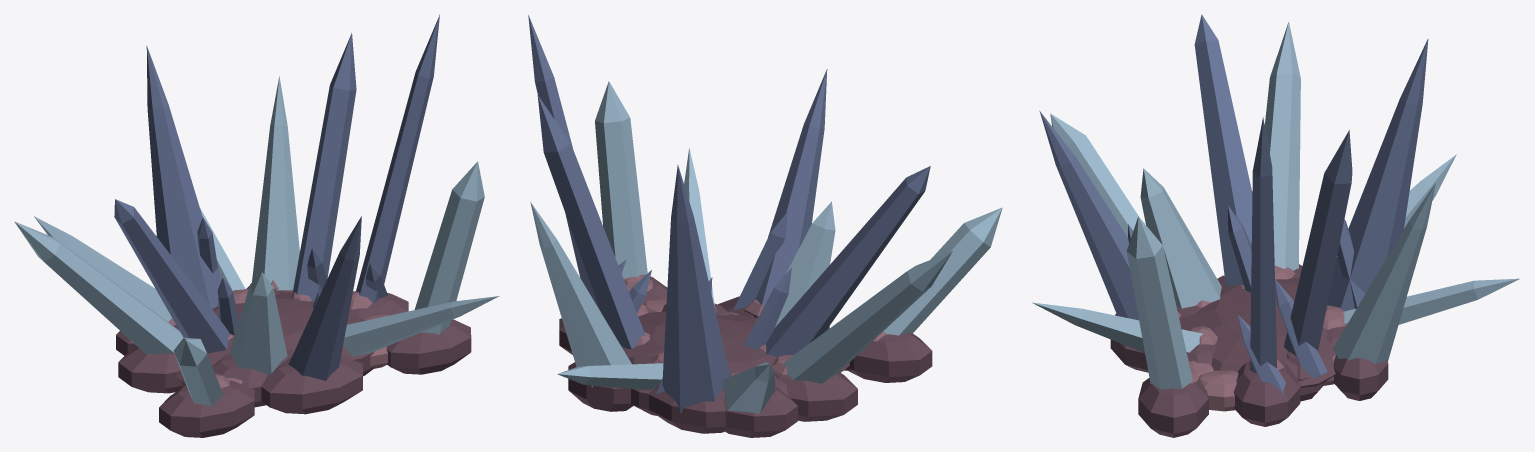
Rendered from colony_mature.glb.
3 views of the same model, side by side, from view 1: azimuth 30°, elevation 25°; view 2: azimuth 150°, elevation 25°; view 3: azimuth 270°, elevation 25° (orthographic). The views are drawn at different scales.
Parts seen in each view (by area): view 1: colony_mature; view 2: colony_mature; view 3: colony_mature.
Boxes of the visible parts, bbox=[...] form: colony_mature: bbox=[14, 14, 499, 437]; colony_mature: bbox=[528, 15, 1002, 437]; colony_mature: bbox=[1032, 14, 1519, 437].
Size of the model in its own units: 2.18 by 1.57 by 2.05.
